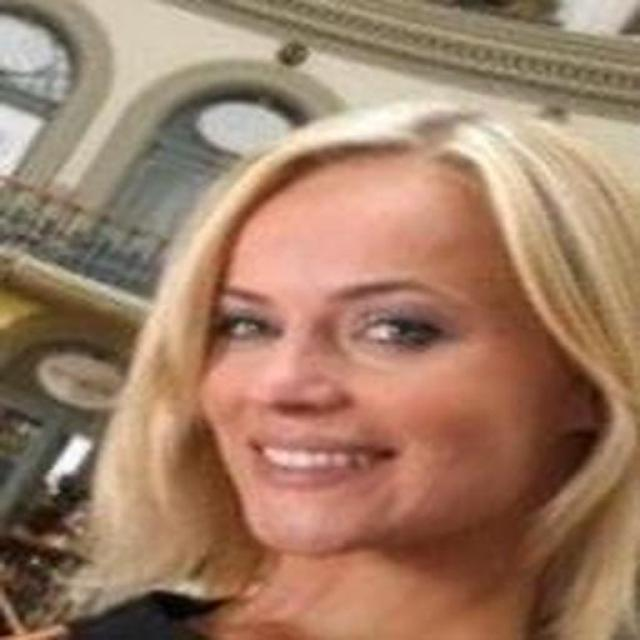bareface: (181, 124, 591, 540)
